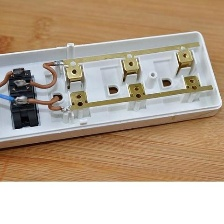three_eye_plug: (0, 25, 224, 161)
